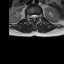CCS_normal: (33, 13, 35, 23)
LFS_normal: (37, 13, 39, 19)
LLS_normal: (35, 13, 37, 20)
RFS_normal: (28, 14, 31, 19)
RLS_normal: (31, 13, 33, 19)
